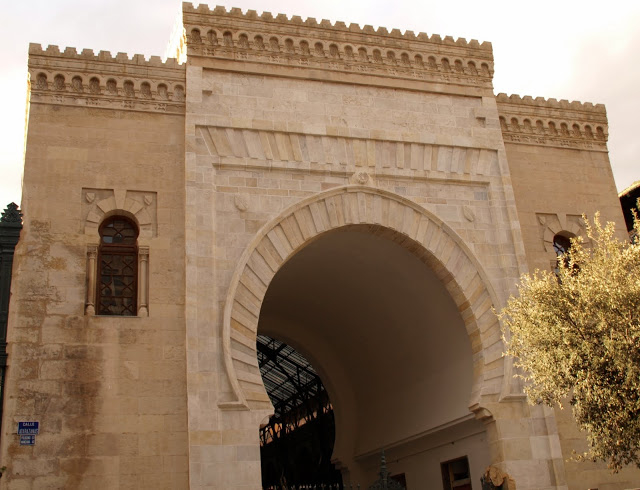arco-herradura: (216, 173, 523, 439), (80, 191, 156, 256)
dintel-adovelado: (201, 124, 497, 180)
